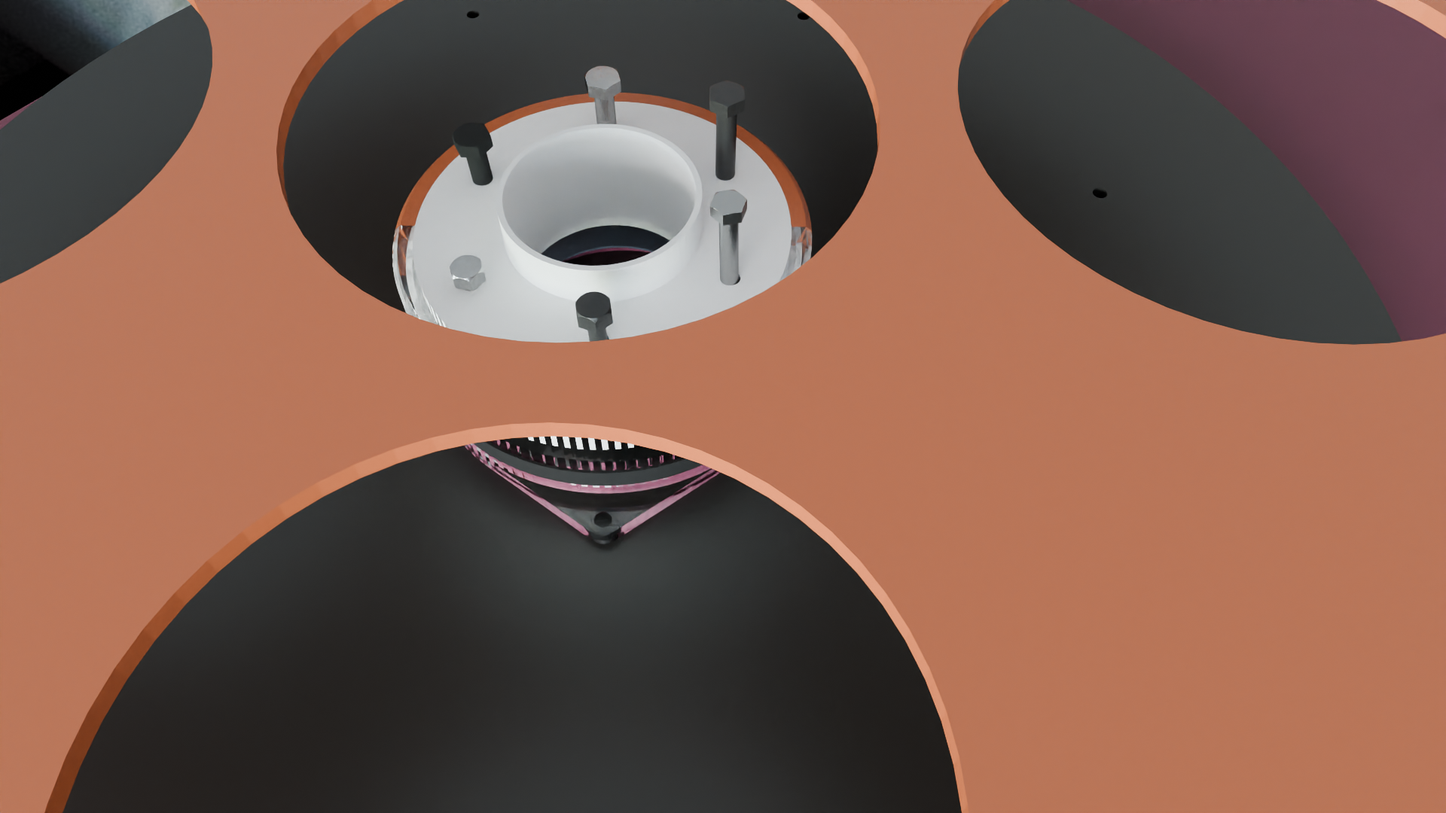bolt: (575, 291, 612, 323), (451, 123, 490, 148), (710, 190, 747, 216), (709, 81, 745, 107), (584, 65, 621, 90), (450, 255, 484, 282)
